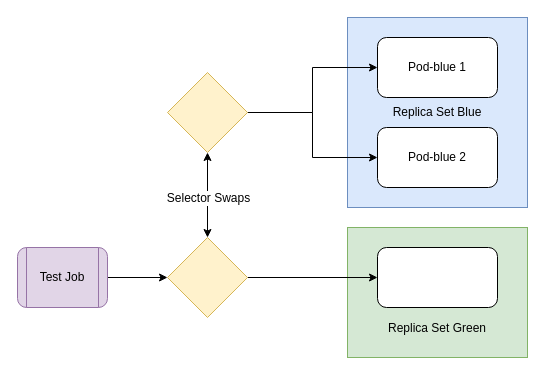
Image size: 545x375. Some labels were removed from this diagram. Each missing label, with the centre of its shape:
Pod-green 1: (437,277)
Service: (207,112)
Service Backup: (207,277)
